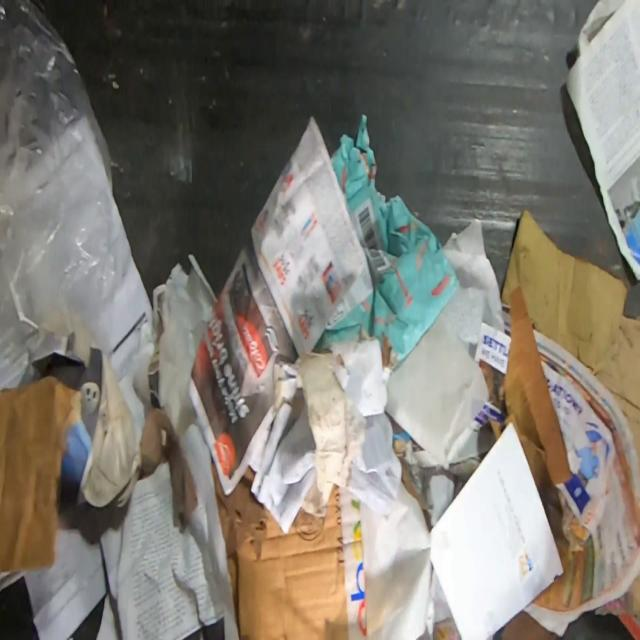cardboard: (500, 208, 640, 480), (316, 113, 460, 375), (211, 457, 368, 640), (478, 285, 573, 495), (0, 378, 83, 572), (141, 406, 198, 532), (393, 432, 431, 511)
soft_plastic: (158, 269, 213, 432)
